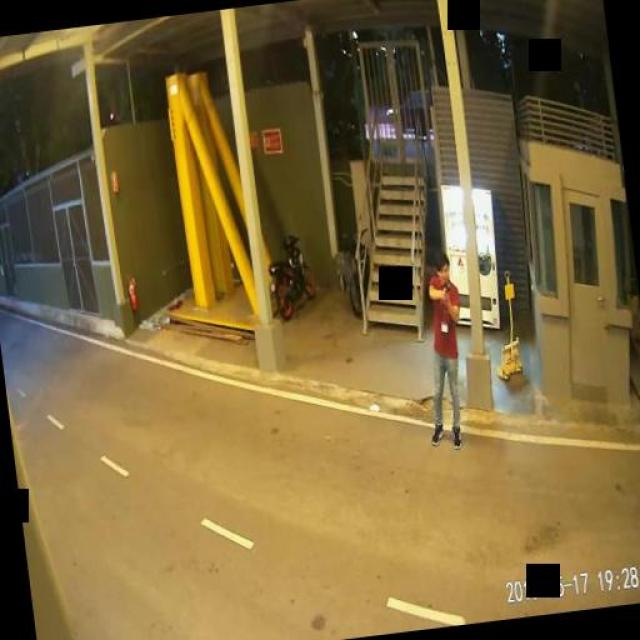gun: (440, 278, 450, 302)
